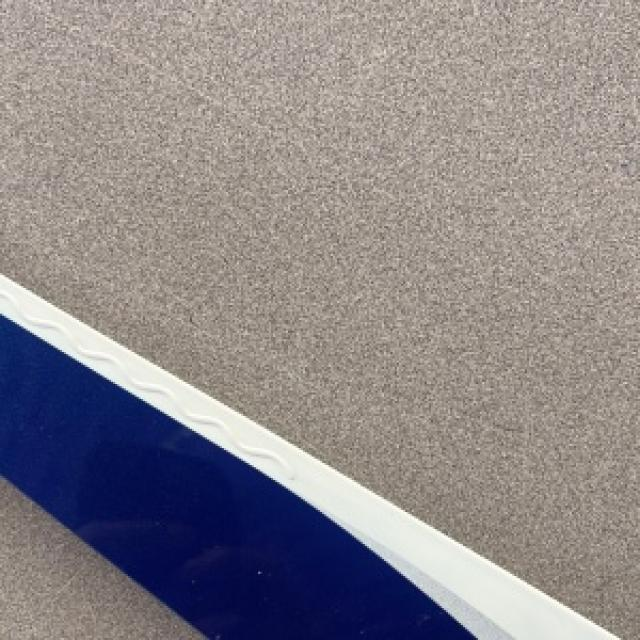healthy: (0, 275, 614, 638), (0, 480, 198, 638)
